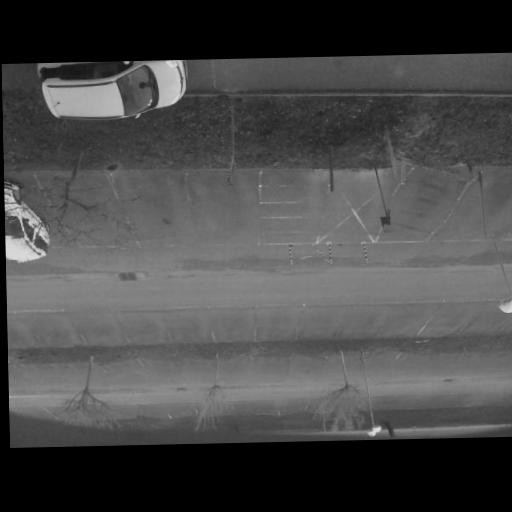busy: (28, 60, 186, 122), (5, 186, 50, 263)
free: (385, 158, 458, 243), (113, 177, 199, 248), (186, 170, 262, 245), (54, 175, 120, 247), (460, 170, 512, 242), (71, 312, 126, 348), (99, 356, 148, 386), (177, 355, 221, 385), (139, 356, 182, 384), (28, 317, 69, 345), (221, 354, 256, 385), (466, 306, 504, 334), (353, 348, 402, 369), (288, 351, 325, 378), (211, 316, 250, 341), (122, 320, 163, 343), (391, 348, 439, 367), (135, 404, 174, 426), (253, 353, 289, 376), (381, 314, 418, 335), (255, 318, 294, 337), (275, 397, 308, 419), (298, 318, 335, 337), (166, 404, 202, 422), (169, 322, 204, 340), (339, 317, 374, 335), (249, 401, 280, 419), (427, 319, 454, 332)
